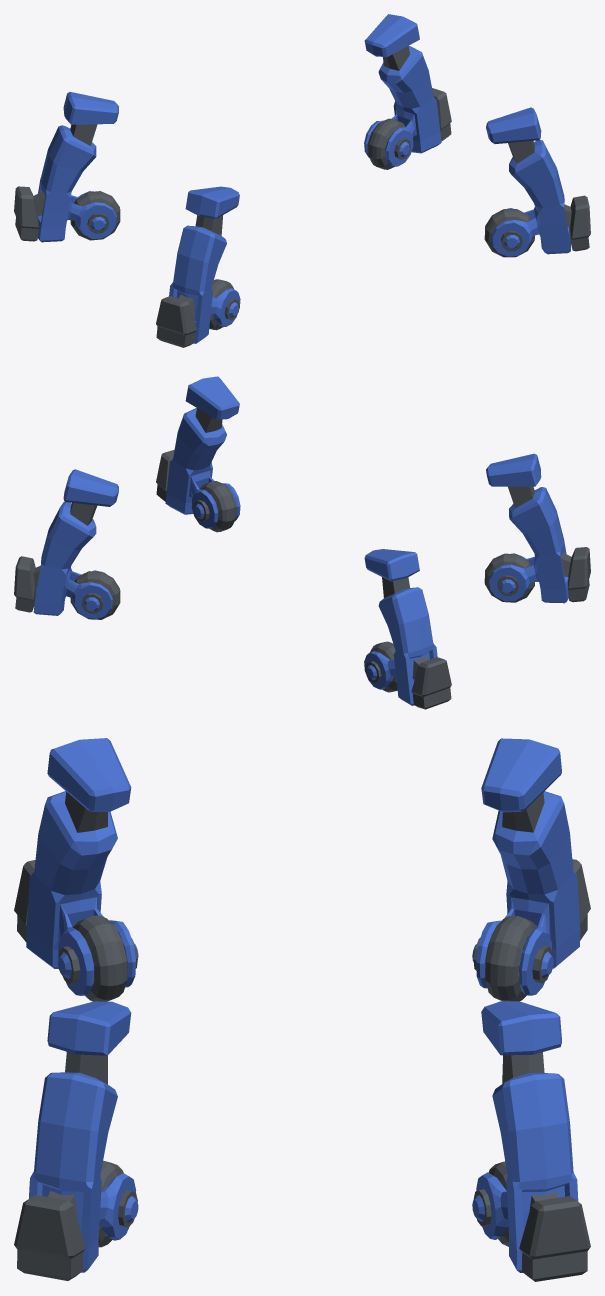
File: Dropship_01_Landers_Blue.fbx
3 views of the same model, one above another, from view 1: azimuth 30°, elevation 25°; view 2: azimuth 150°, elevation 25°; view 3: azimuth 270°, elevation 25° (orthographic). The views are drawn at different scales.
Parts seen in each view (by area): view 1: Dropship_01_Landers_Blue; view 2: Dropship_01_Landers_Blue; view 3: Dropship_01_Landers_Blue.
Part boxes in pixels (<box>): Dropship_01_Landers_Blue: <box>14,14,590,347</box>; Dropship_01_Landers_Blue: <box>14,376,590,709</box>; Dropship_01_Landers_Blue: <box>14,738,590,1281</box>.
Size of the model in its own units: 1275 by 402 by 864.
1 material, 1 textured.
